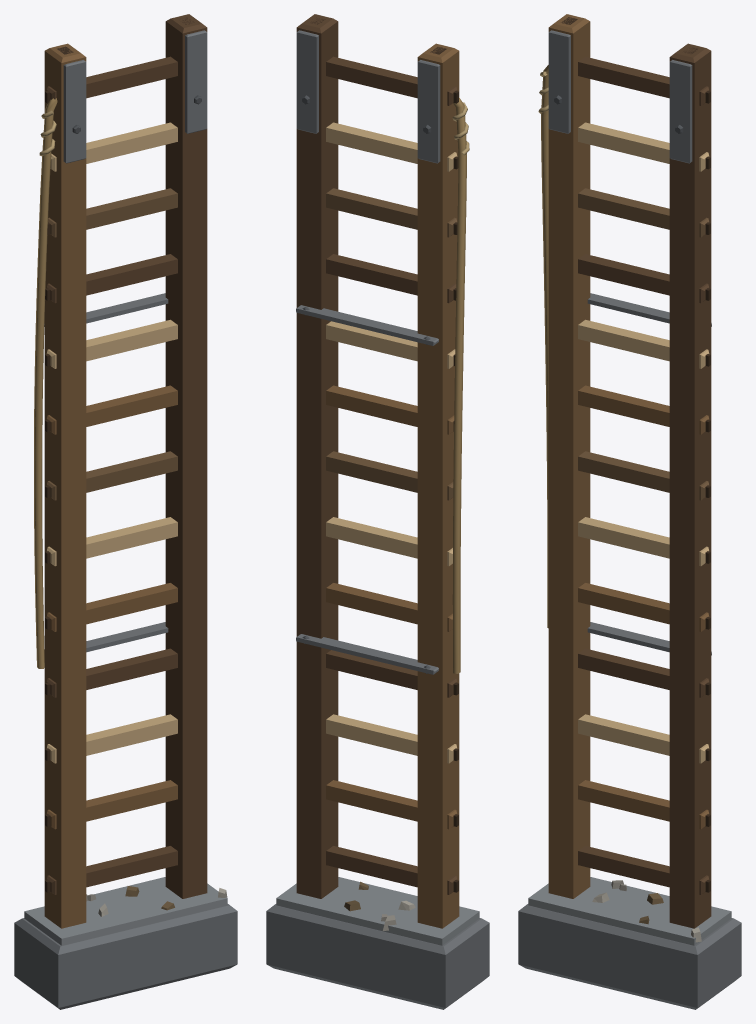
Rendered from SM_LPD_Struct_HatchLadder_01.fbx.
3 renders of one model, left to right at view 1: azimuth 30°, elevation 25°; view 2: azimuth 150°, elevation 25°; view 3: azimuth 330°, elevation 25°, orthographic.
Parts seen in each view (by area): view 1: SM_LPD_Struct_HatchLadder_01; view 2: SM_LPD_Struct_HatchLadder_01; view 3: SM_LPD_Struct_HatchLadder_01.
Part boxes in pixels (x1,y1,x2,y2): SM_LPD_Struct_HatchLadder_01: (14,14,237,1009); SM_LPD_Struct_HatchLadder_01: (266,14,489,1009); SM_LPD_Struct_HatchLadder_01: (518,14,741,1009).
Bounding box in the file's own units: 0.8 × 4 × 0.34.
